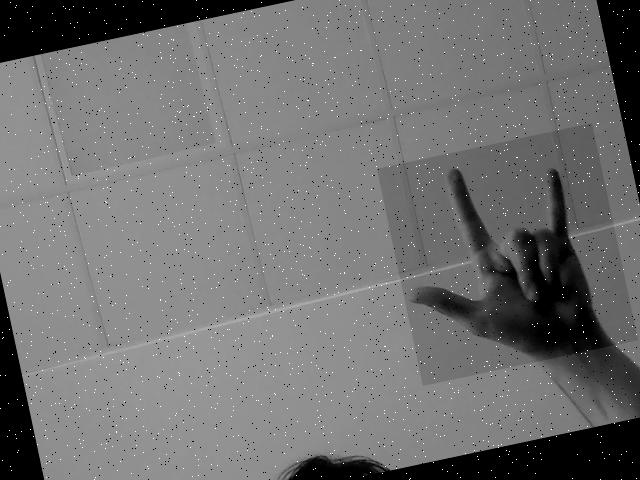I_Love_You: (377, 123, 638, 386)
